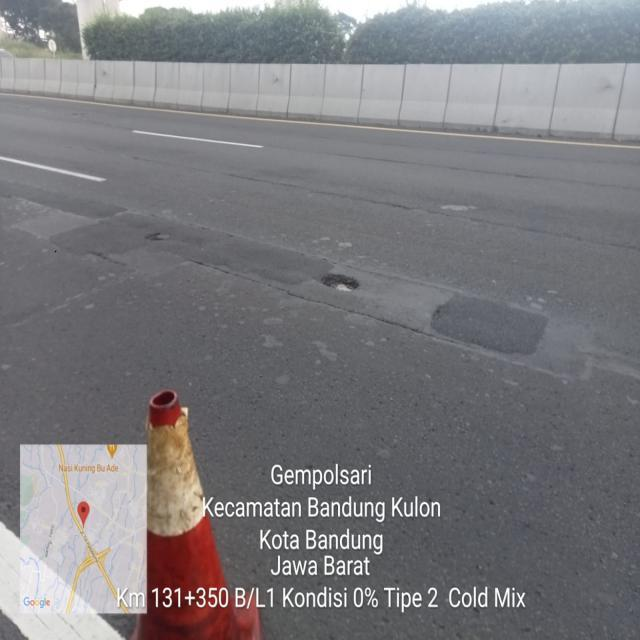Buraco: (317, 271, 362, 294)
